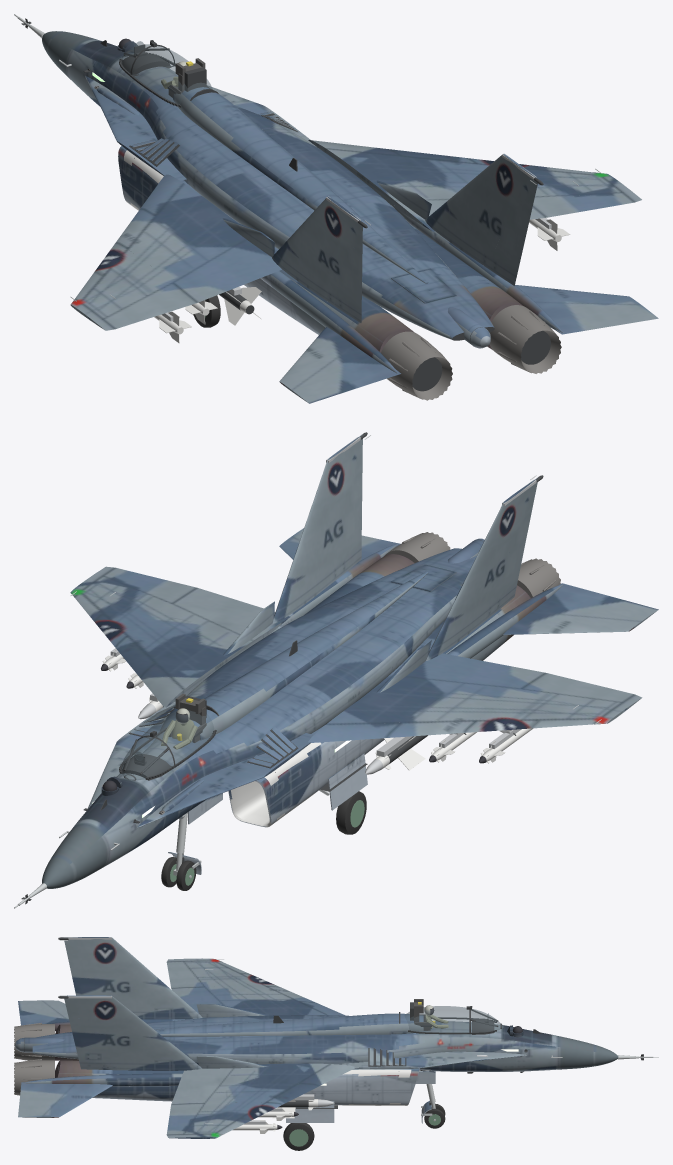
Rendered from mig29.glb.
3 views of the same model, one above another, from view 1: azimuth 30°, elevation 25°; view 2: azimuth 150°, elevation 25°; view 3: azimuth 270°, elevation 25° (orthographic). The views are drawn at different scales.
Visible parts, largest first — view 1: airframe, stabL, stabR, flapL, canopy, rudR, cockpit, detail, ailL, rudL, ailR, lefIL (+3 smaller); view 2: airframe, stabL, canopy, flapL, cockpit, lefIL, flapR, detail, lefIR, rudR, gearN, ailL (+7 smaller); view 3: airframe, stabR, canopy, flapR, rudR, stabL, lefIR, cockpit, detail, rudL, gearMR, ailR (+6 smaller).
Boxes of the visible parts, bbox=[...] form: airframe: bbox=[14, 14, 641, 400]; stabL: bbox=[279, 327, 400, 403]; stabR: bbox=[516, 285, 658, 334]; flapL: bbox=[173, 239, 281, 302]; canopy: bbox=[121, 44, 212, 104]; rudR: bbox=[487, 202, 531, 285]; cockpit: bbox=[122, 41, 206, 97]; detail: bbox=[59, 59, 601, 392]; ailL: bbox=[104, 284, 196, 329]; rudL: bbox=[334, 243, 362, 322]; ailR: bbox=[533, 193, 634, 217]; lefIL: bbox=[115, 174, 183, 248]; airframe: bbox=[14, 432, 642, 908]; stabL: bbox=[503, 583, 658, 634]; canopy: bbox=[121, 710, 213, 780]; flapL: bbox=[406, 653, 546, 688]; cockpit: bbox=[121, 694, 206, 780]; lefIL: bbox=[308, 721, 476, 742]; flapR: bbox=[173, 587, 290, 644]; detail: bbox=[59, 435, 601, 850]; lefIR: bbox=[115, 636, 183, 707]; rudR: bbox=[338, 472, 362, 577]; gearN: bbox=[161, 812, 201, 890]; ailL: bbox=[524, 673, 634, 701]; airframe: bbox=[14, 937, 658, 1138]; stabR: bbox=[18, 1082, 112, 1117]; canopy: bbox=[405, 1006, 503, 1032]; flapR: bbox=[171, 1068, 233, 1104]; rudR: bbox=[69, 1018, 114, 1070]; stabL: bbox=[18, 1000, 69, 1025]; lefIR: bbox=[266, 1064, 355, 1104]; cockpit: bbox=[410, 999, 494, 1034]; detail: bbox=[21, 940, 562, 1134]; rudL: bbox=[69, 962, 103, 995]; gearMR: bbox=[283, 1105, 337, 1150]; ailR: bbox=[166, 1103, 201, 1134].
Size of what is drawn, in the model's own units: 11.36 by 4.72 by 17.32.
15 materials, 1 textured.
